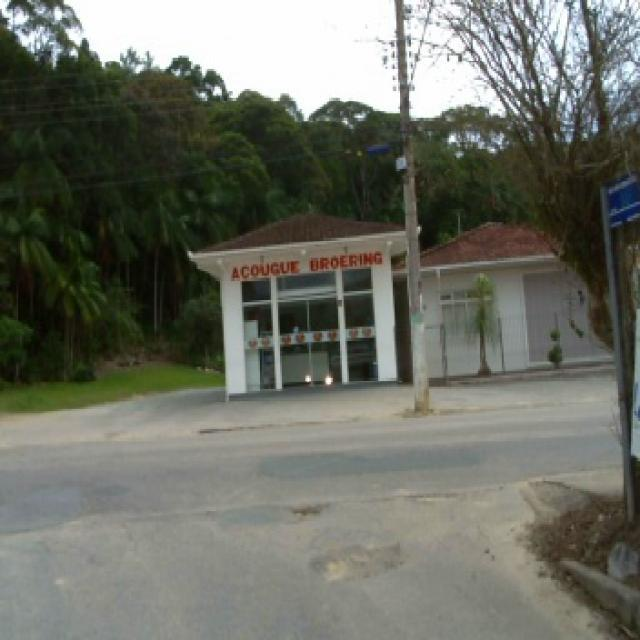Poth-hole: (302, 529, 404, 587), (402, 488, 460, 504), (284, 498, 328, 518)
